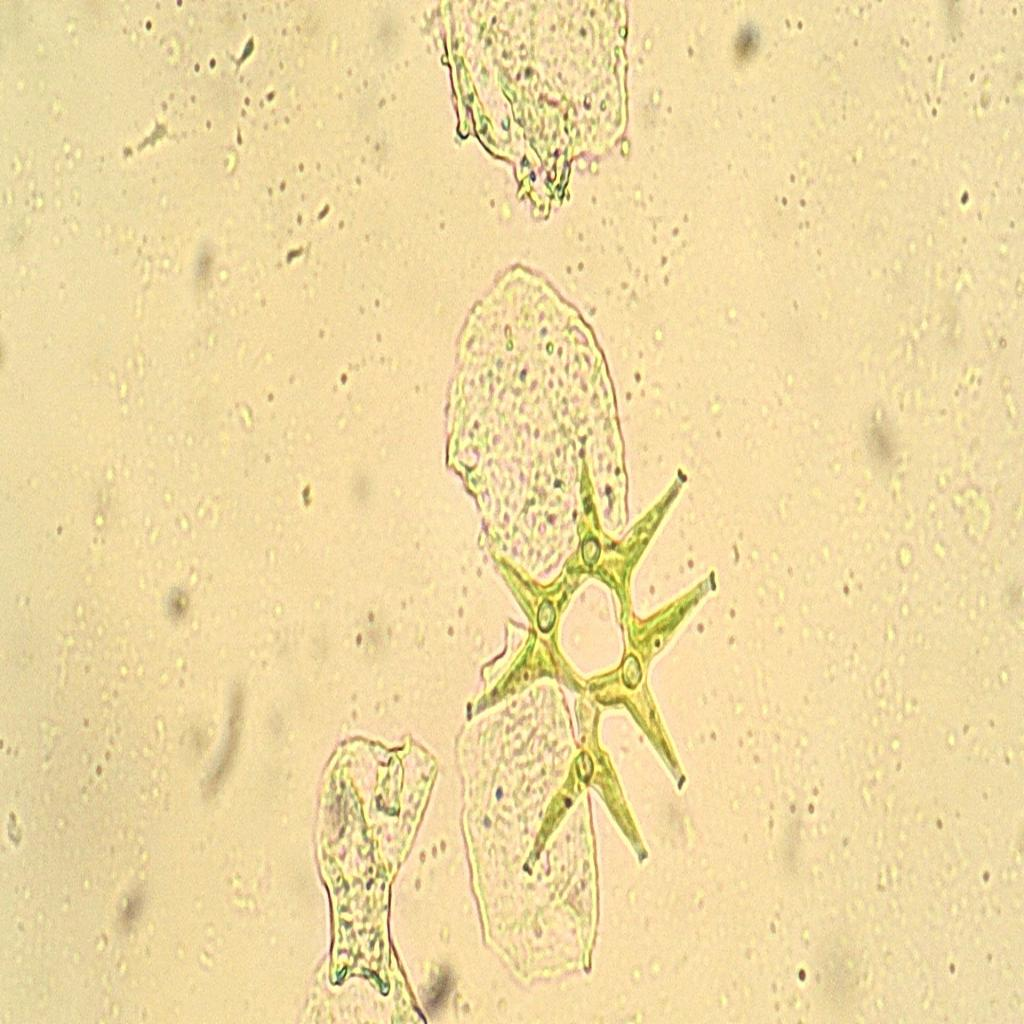Pediastrum_CT: (454, 386, 728, 902)
